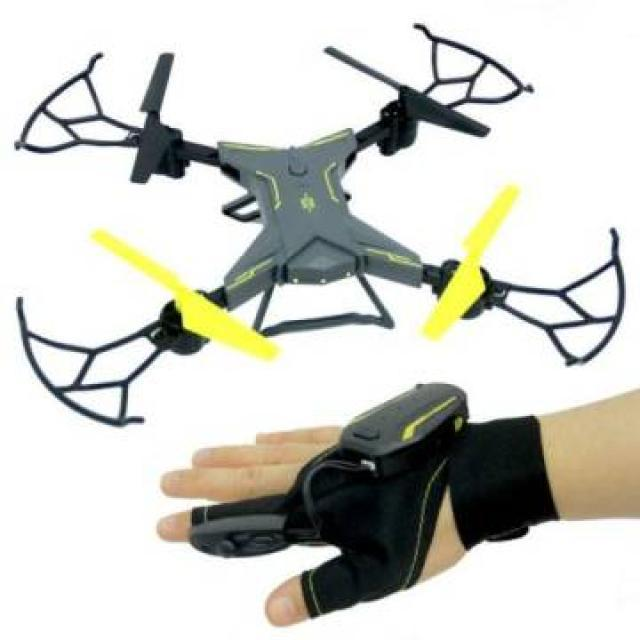drones: (1, 22, 640, 436)
